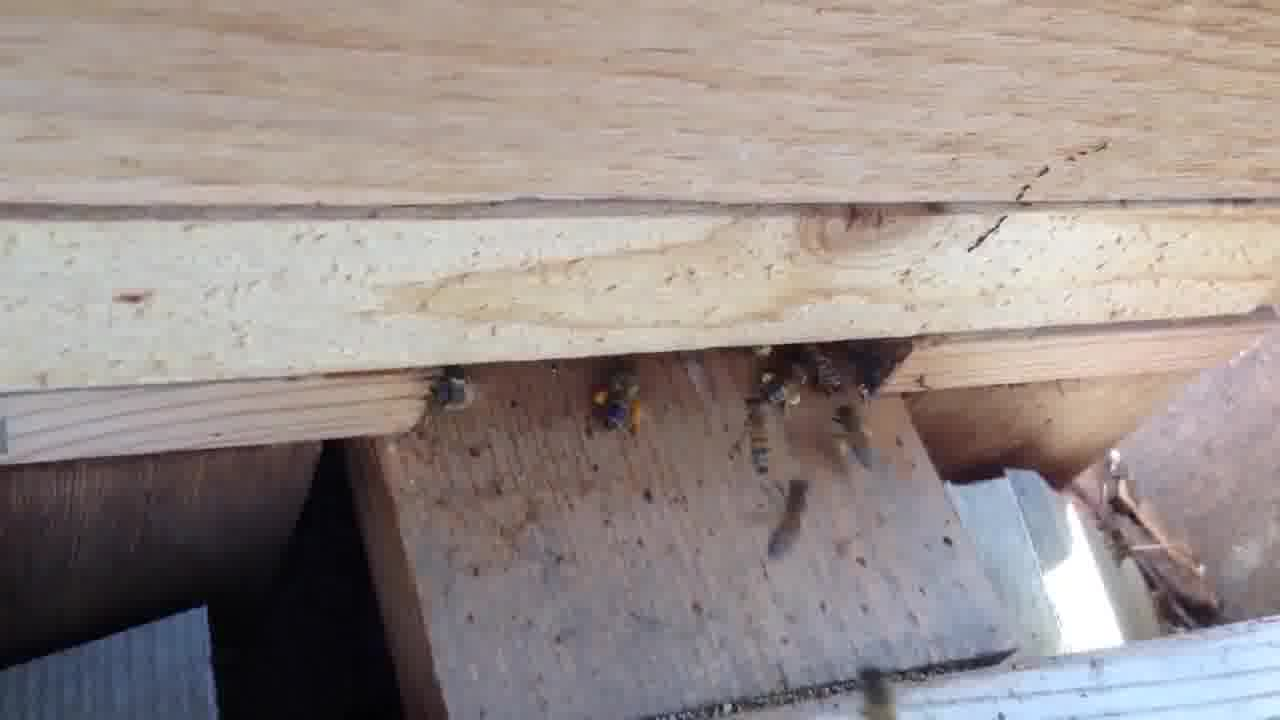pollen: (585, 362, 655, 432), (822, 403, 882, 471), (761, 362, 813, 415)
